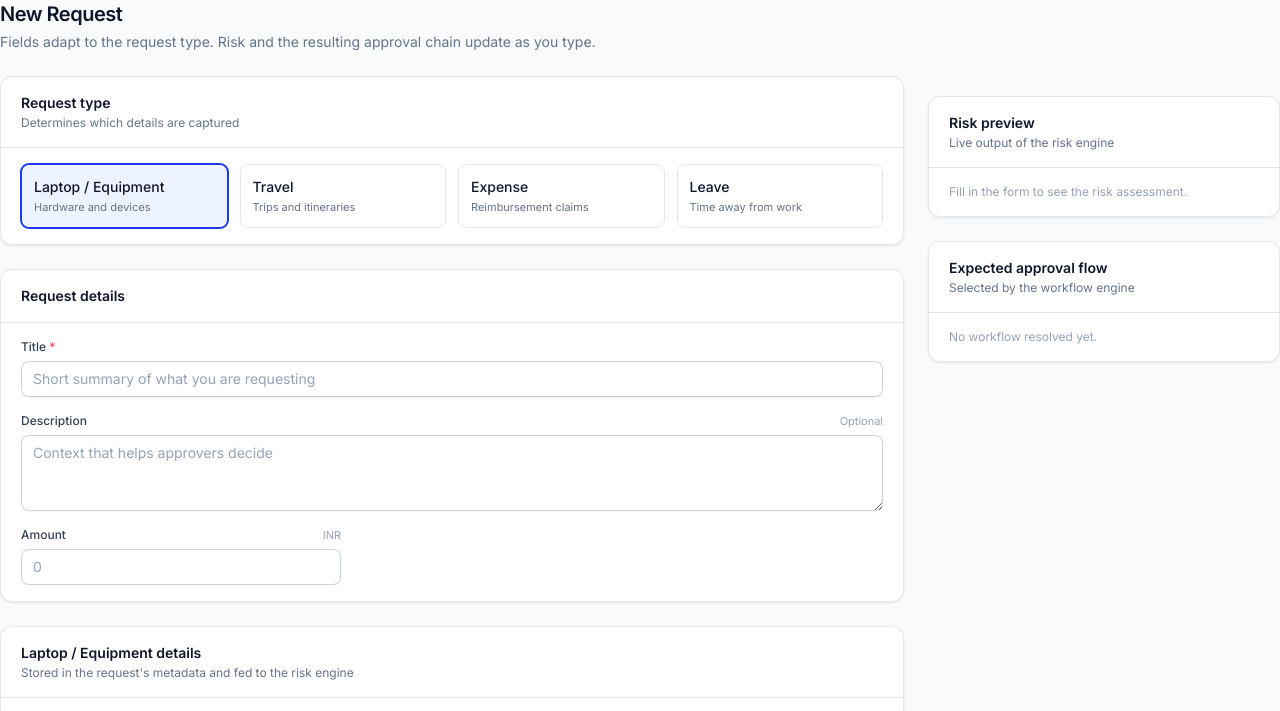
Scenario: Raise a request › swaps in the leave fields and drops the monetary amount
Click the button "Leave Time away from work" at point(780, 196), box 676,164 -> 883,228
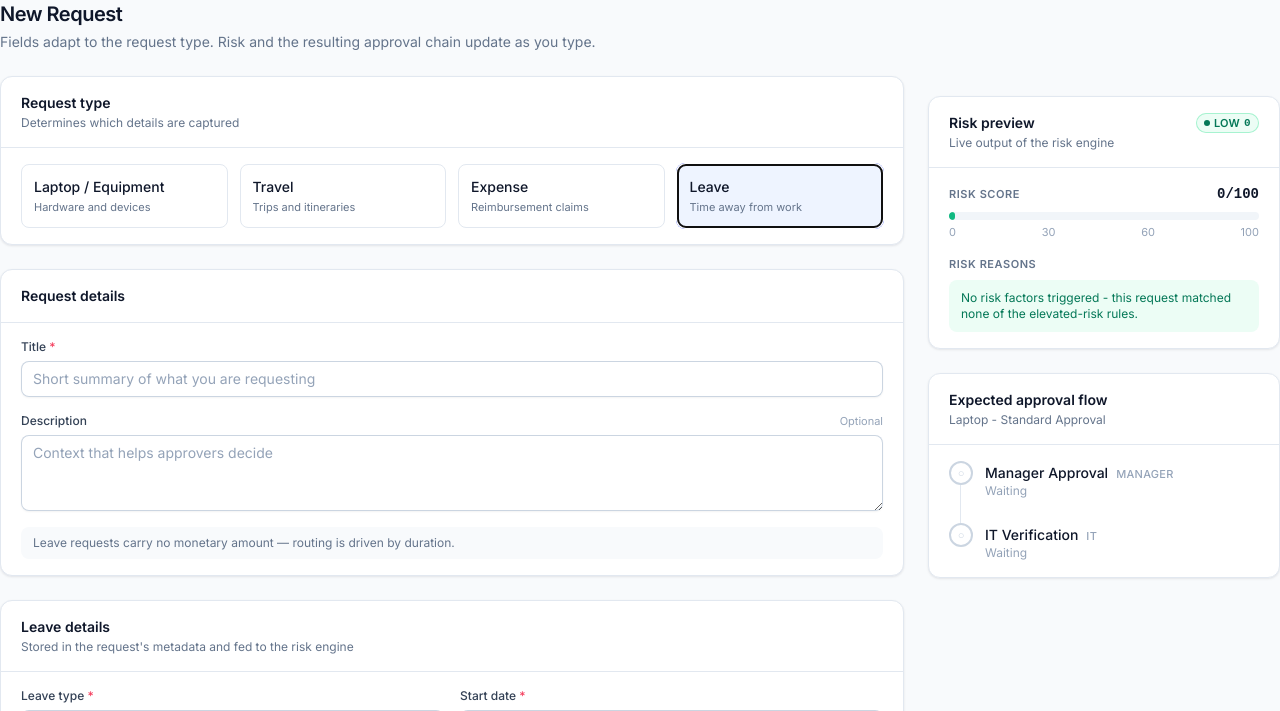
Result: the text "carry no monetary amount" is shown at 33,535 -> 455,550
